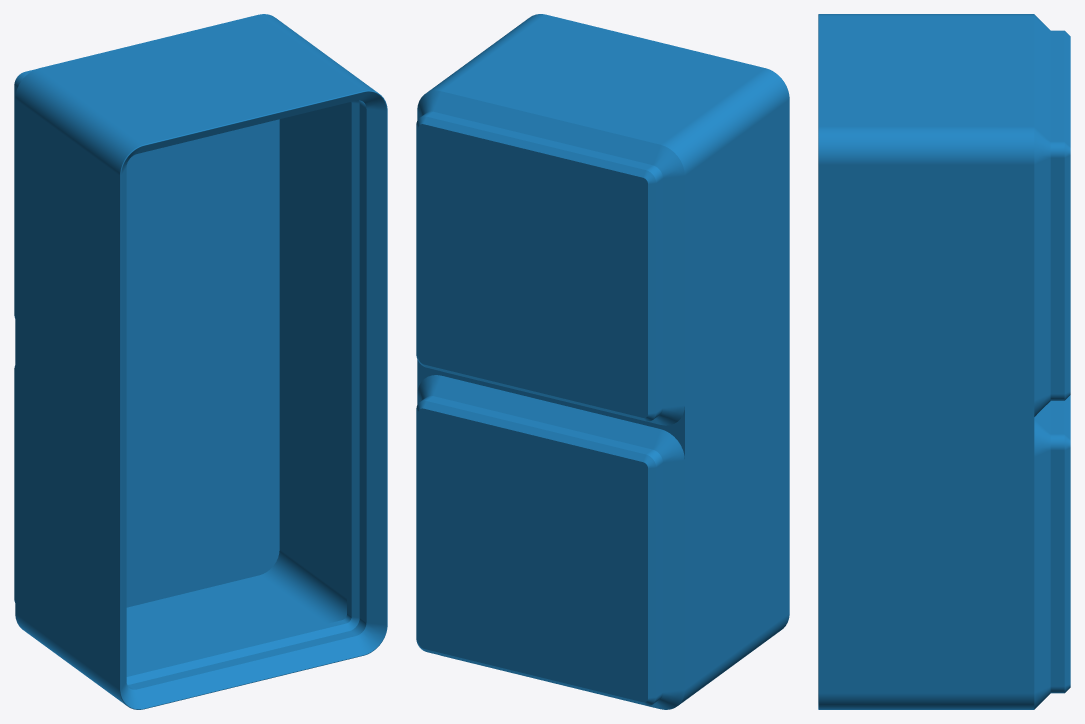
3 renders of one model, left to right at view 1: azimuth 30°, elevation 25°; view 2: azimuth 150°, elevation 25°; view 3: azimuth 270°, elevation 25°, orthographic. The views are drawn at different scales.
Parts seen in each view (by area): view 1: model; view 2: model; view 3: model.
Part boxes in pixels (bbox=[...]): model: bbox=[14, 14, 387, 709]; model: bbox=[416, 14, 789, 709]; model: bbox=[818, 14, 1070, 709].
Bounding box in the file's own units: 0.0414 × 0.0834 × 0.0329.
